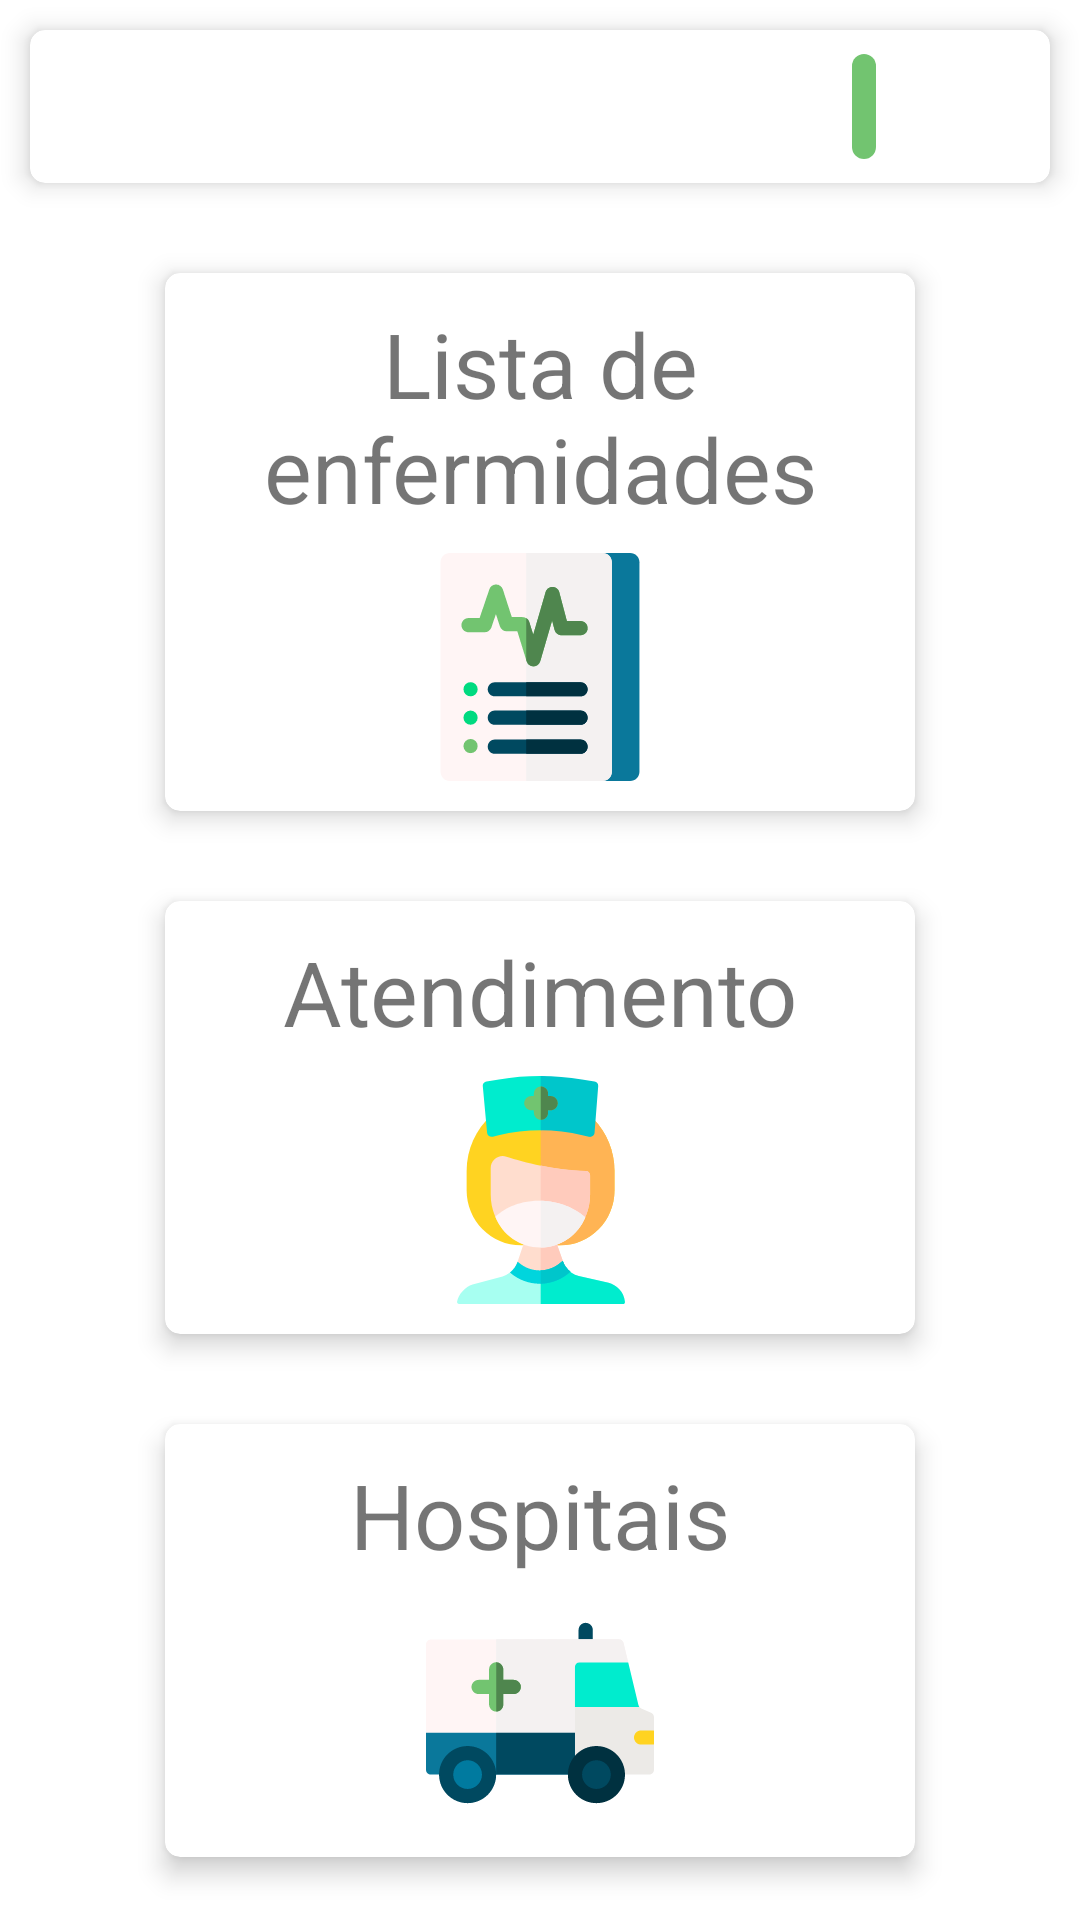

Icons on this 1080 x 1920 Android screen, each with its box as bbox=[x1, y1, x2, y2]:
ambulance: bbox=[426, 1622, 654, 1804]
cardiogram: bbox=[441, 553, 640, 781]
nurse: bbox=[457, 1076, 625, 1304]
